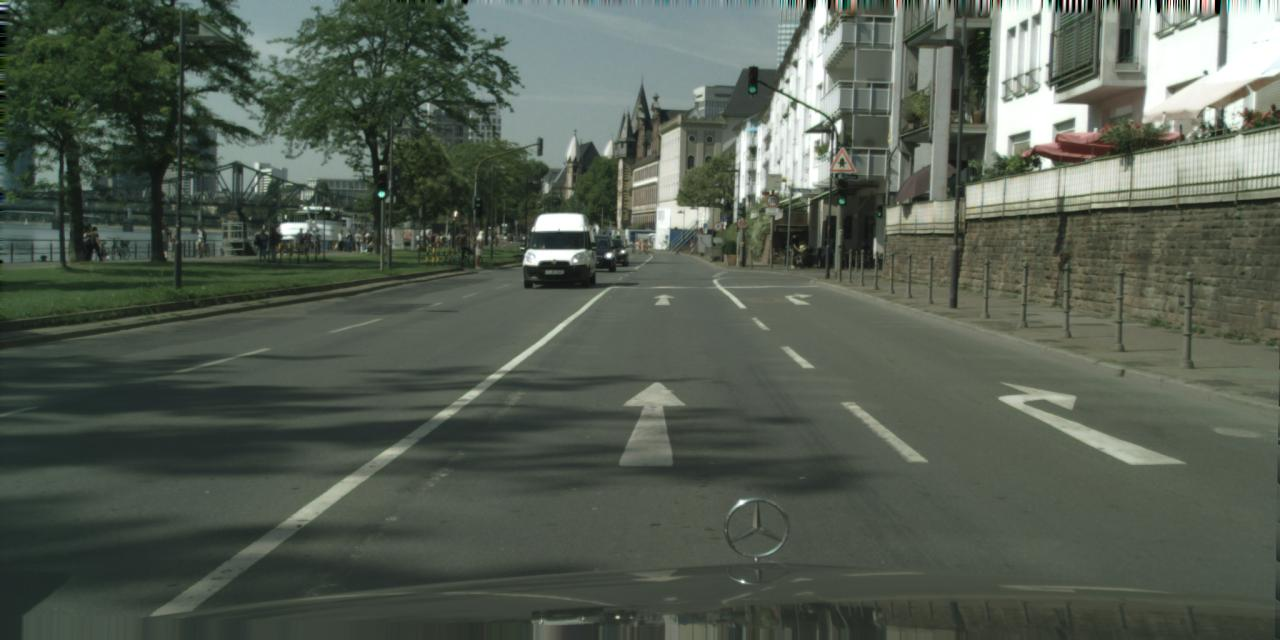ped: (255, 228, 283, 262), (338, 228, 373, 253), (83, 223, 103, 262), (294, 228, 322, 255), (156, 222, 172, 260), (471, 230, 487, 268), (786, 230, 801, 268), (460, 228, 475, 265), (194, 224, 208, 258), (171, 229, 183, 262)
